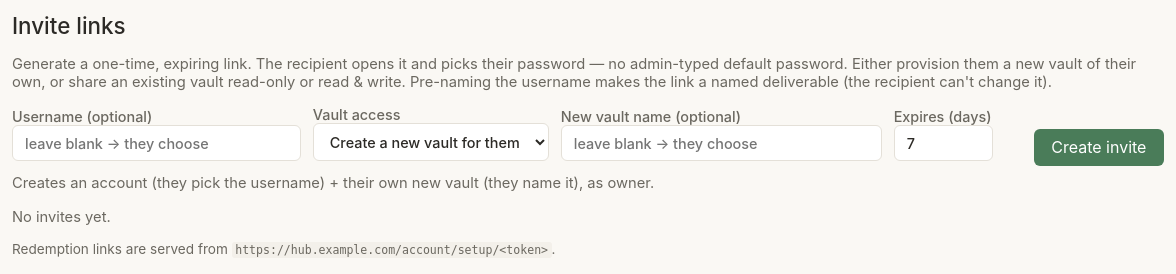
Test case: InvitesSection — prefiguration (what will this link do?) › shows a live preview that follows the form state
The width and height of the screenshot is (1176, 274).
Check: the text "No invites yet." is shown, box [12, 208, 111, 226]
Check: the text with test id "invite-preview" shows "Creates an account (they pick the username) + their own new vault (they name it), as owner.", box [12, 174, 654, 192]
Pre-name the user + share an existing vault read-only.
Type "jonathan" into the field labelled "Username (optional)".
click(156, 143); type("jonathan")  # box [12, 125, 301, 161]
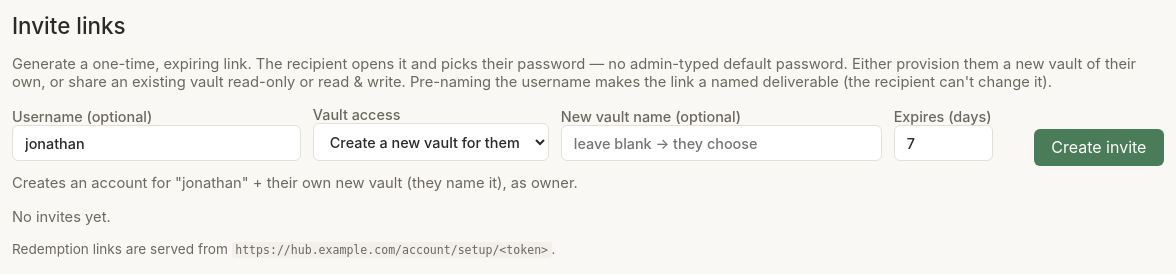
Select "Share an existing vault" in the dropdown labelled "Vault access" at (431, 142), box [313, 123, 549, 161]
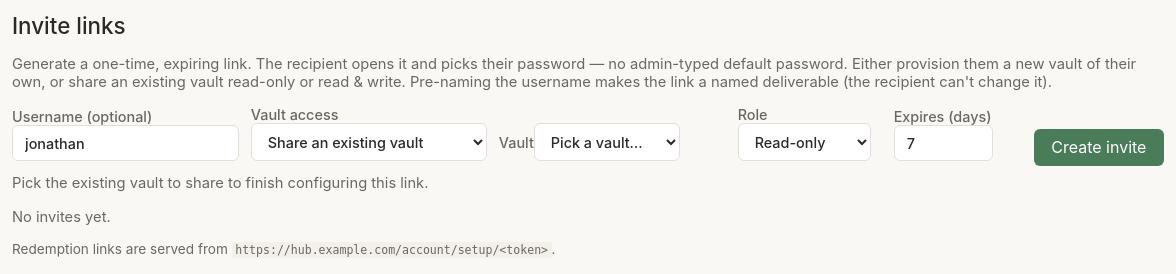
Check: the text with test id "invite-preview" shows "Pick the existing vault to share", box [12, 174, 428, 192]
Select "jonathan-vault" in the dropdown labelled "Vault" at (607, 142), box [534, 123, 680, 161]
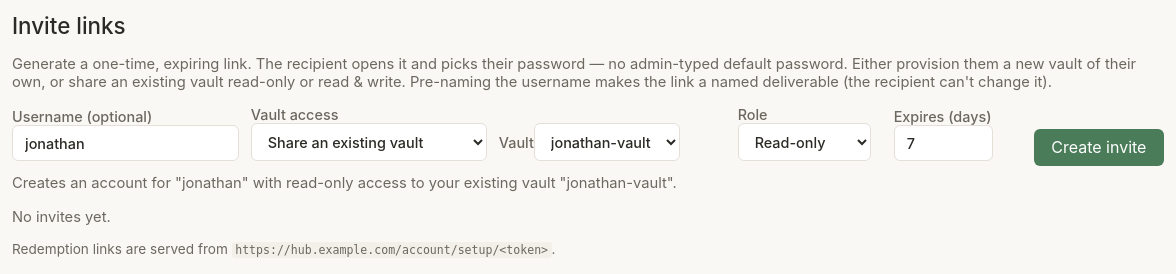
Check: the text with test id "invite-preview" shows "Creates an account for \"jonathan\" with read-only access to your existing vault \"jonathan-vault\".", box [12, 174, 677, 192]
